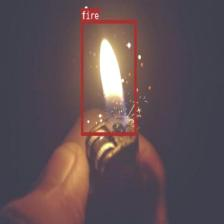fire: (81, 19, 136, 135)
